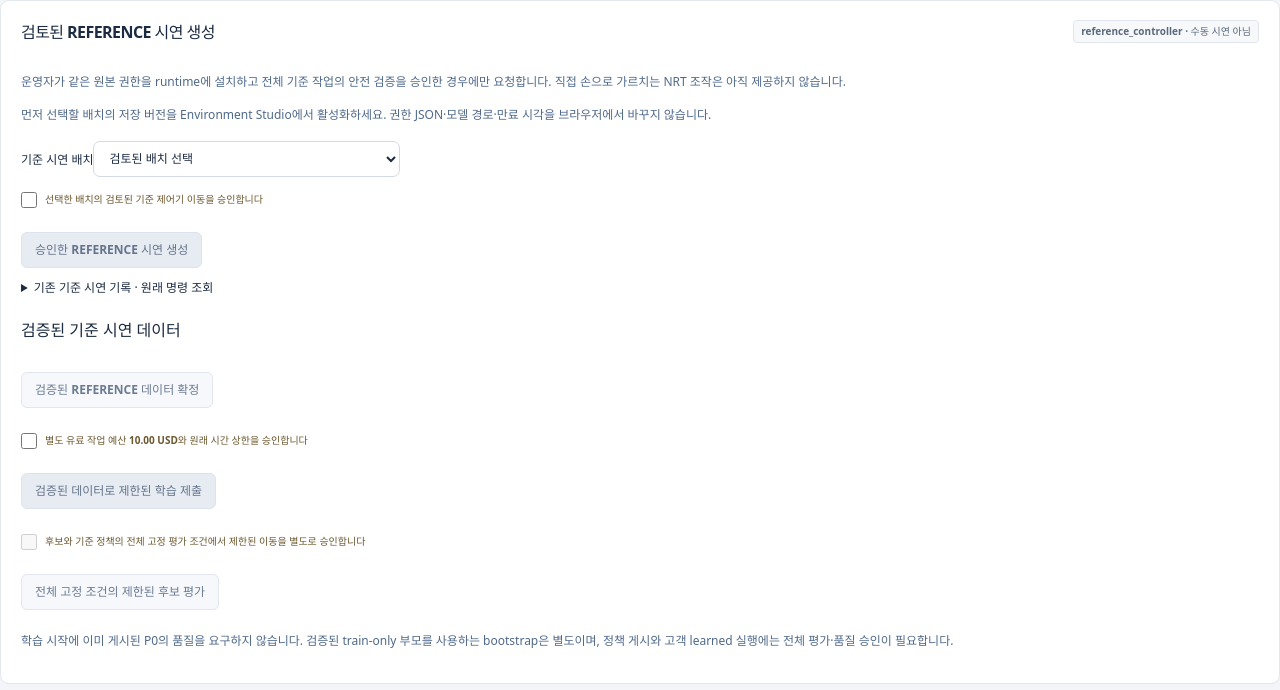
Test case: explicit reference generation, not manual NRT teaching › keeps uncertain or running cancellation distinct from confirmed termination
Click the heading "기존 기준 시연 기록 · 원래 명령 조회". click: (124, 287)
box: [34, 279, 213, 296]
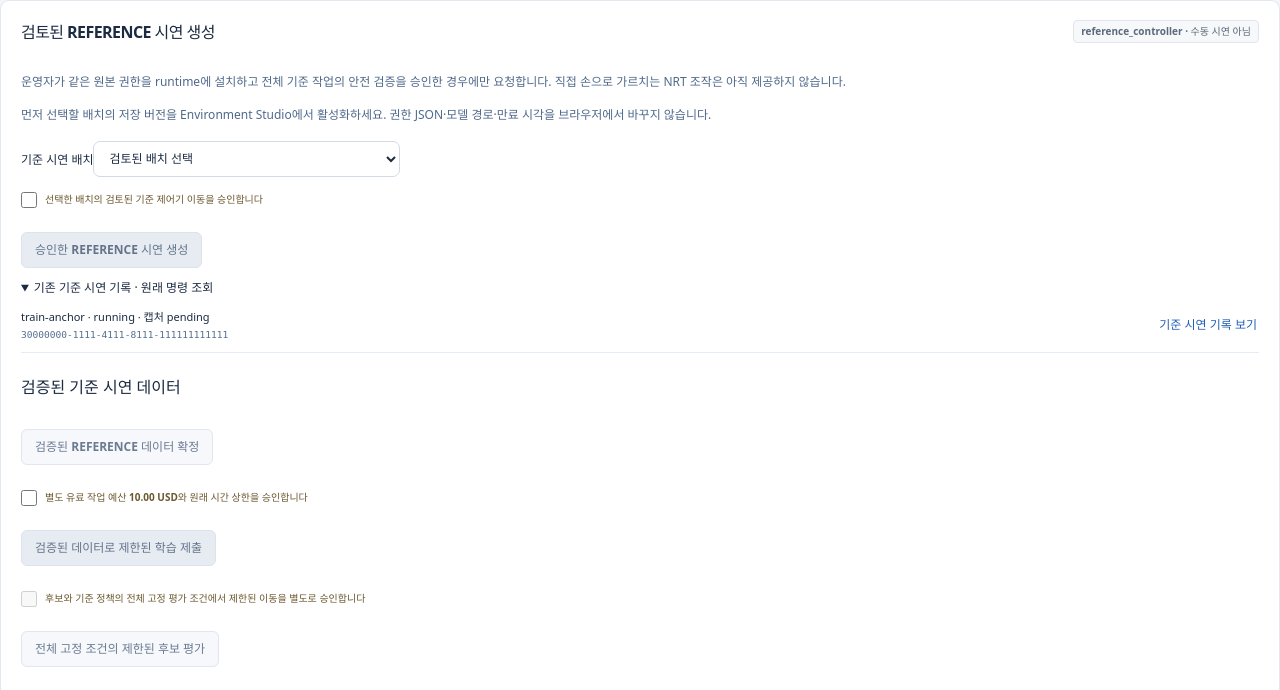
Click the button "기준 시연 기록 보기". click: (1208, 324)
box: [1157, 308, 1259, 340]
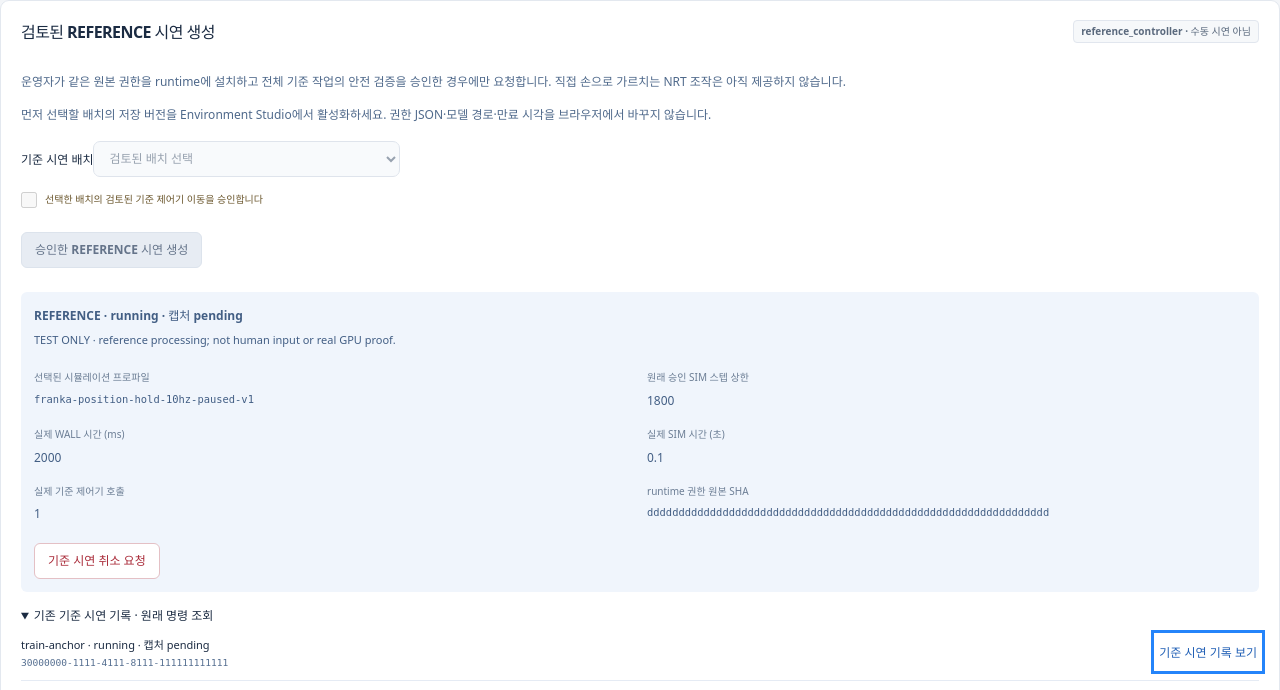
Click the button "기준 시연 취소 요청". click: (97, 561)
box: [34, 543, 160, 579]
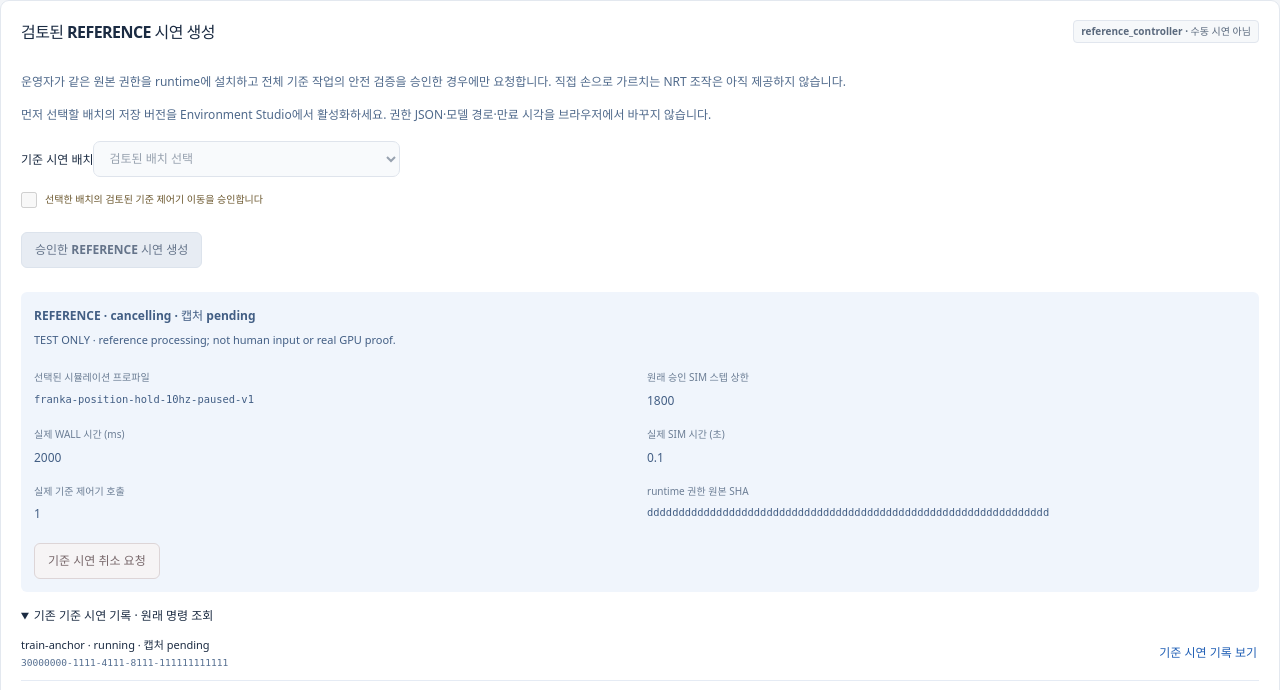
Expected: the text "REFERENCE · cancelling · 캡처 pending" is shown, [34, 307, 256, 324]
Expected: the button "기준 시연 취소 요청" is disabled, [34, 543, 160, 579]
